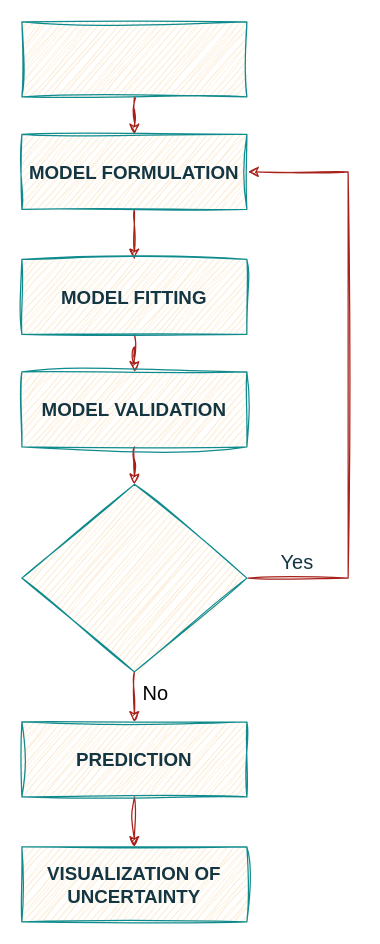
The diagram is 380 pixels wide and 944 high, and some of its shapes have lost their labels. Each missing label, with the centre of its shape:
EVIDENCE AGAINST ASSUMPTIONS?: the point at 134,577
EXPLORATORY ANALYSIS: the point at 134,59
